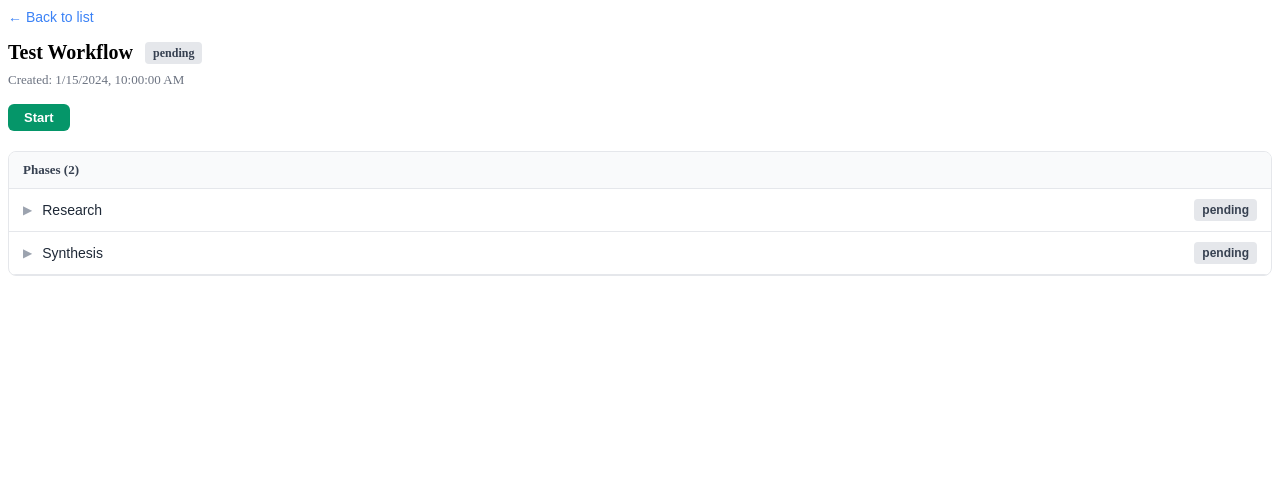
Test: WorkflowDetail › expands phase to show agents
This screenshot has width=1280, height=490.
Click the text "Research" at [72, 210], box [42,202,102,218]
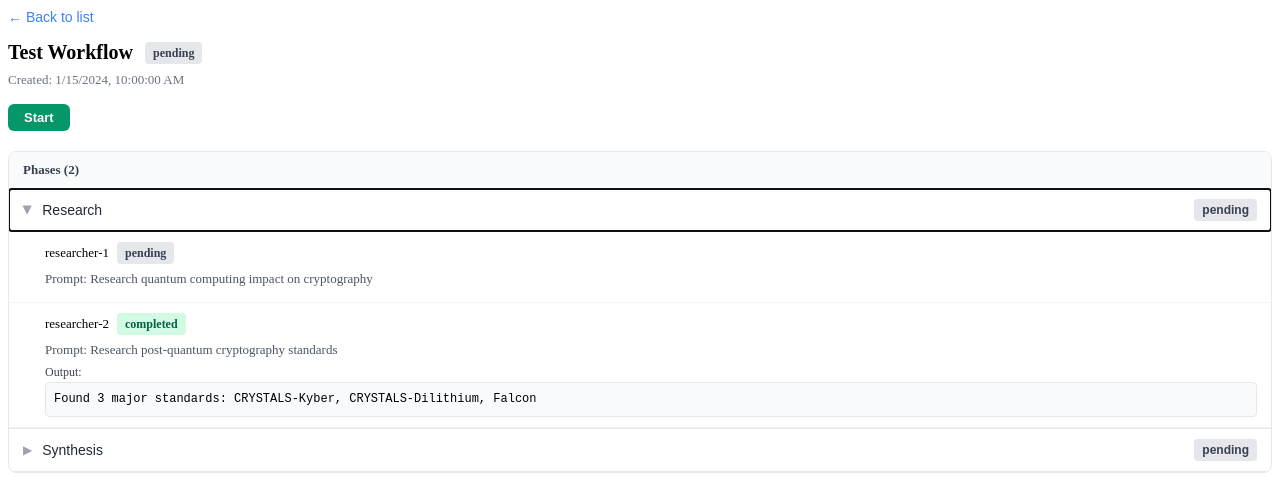
expect the text "researcher-1" is shown: met, box [45,245,109,261]
expect the text "researcher-2" is shown: met, box [45,316,109,332]
